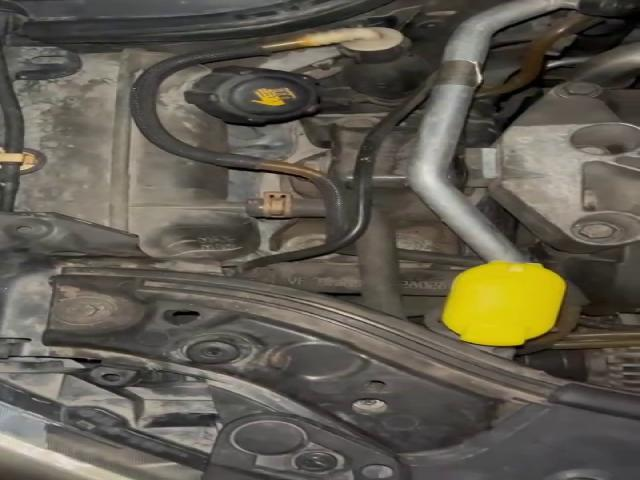antifreeze_tank: (15, 50, 258, 258), (157, 66, 318, 151)
